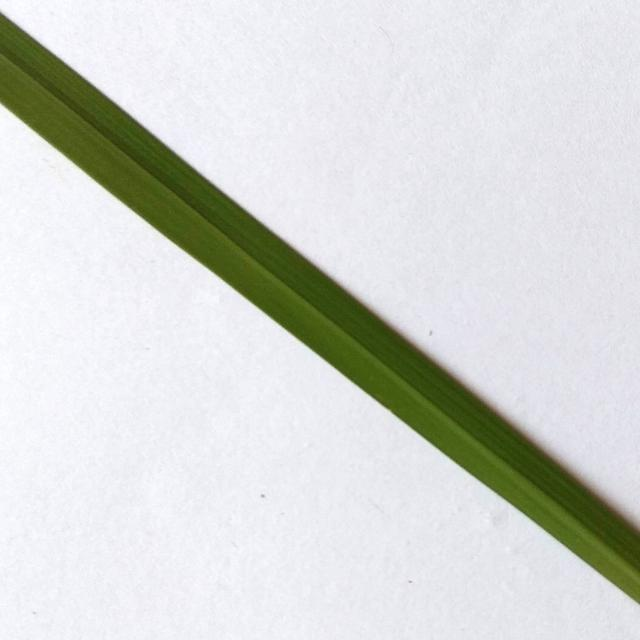Rice_Healthy: (0, 14, 640, 602)
